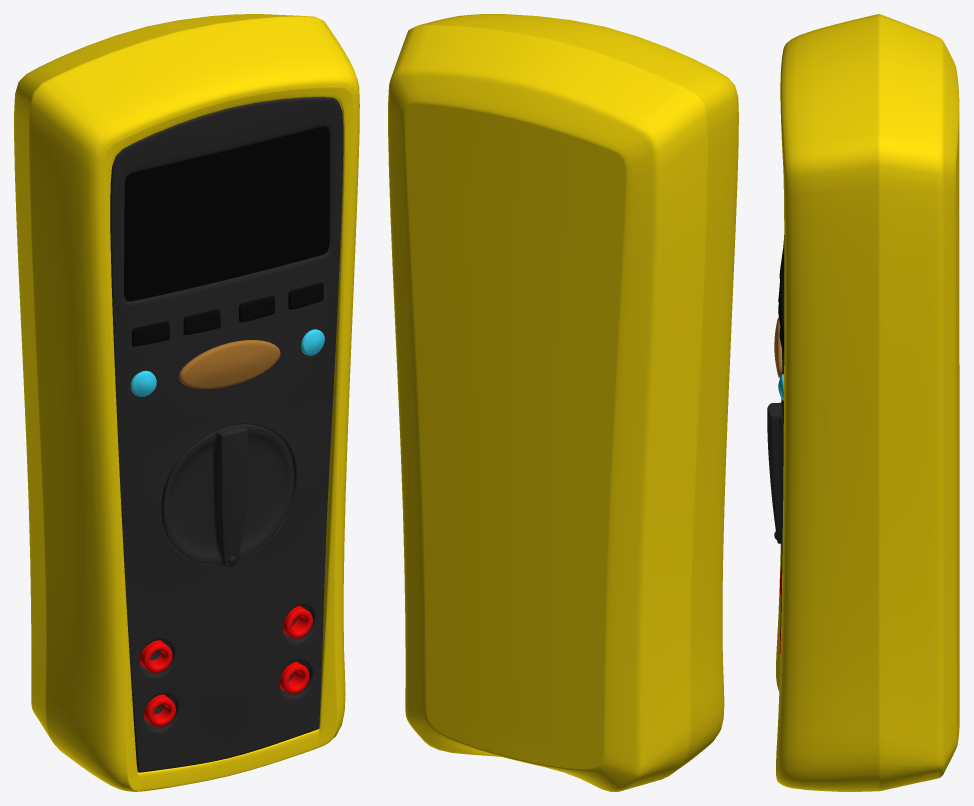
Rendered from 高阻計.FBX.
The picture shows the model from 3 angles, left to right: view 1: azimuth 30°, elevation 25°; view 2: azimuth 150°, elevation 25°; view 3: azimuth 270°, elevation 25°; orthographic projection. The views are drawn at different scales.
Parts seen in each view (by area): view 1: 三用電表, 三用電表_旋轉鈕; view 2: 三用電表; view 3: 三用電表, 三用電表_旋轉鈕.
Part boxes in pixels (left/top/right/bottom): 三用電表: left=14, top=14, right=359, bottom=791; 三用電表_旋轉鈕: left=161, top=424, right=294, bottom=566; 三用電表: left=388, top=14, right=738, bottom=791; 三用電表: left=774, top=14, right=959, bottom=791; 三用電表_旋轉鈕: left=767, top=402, right=782, bottom=545.
Bounding box in the file's own units: 50.44 × 115 × 28.99.
